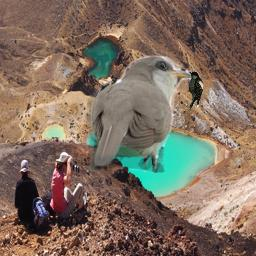Cuckoo: (86, 55, 194, 173)
Woodpecker: (188, 71, 203, 110)
